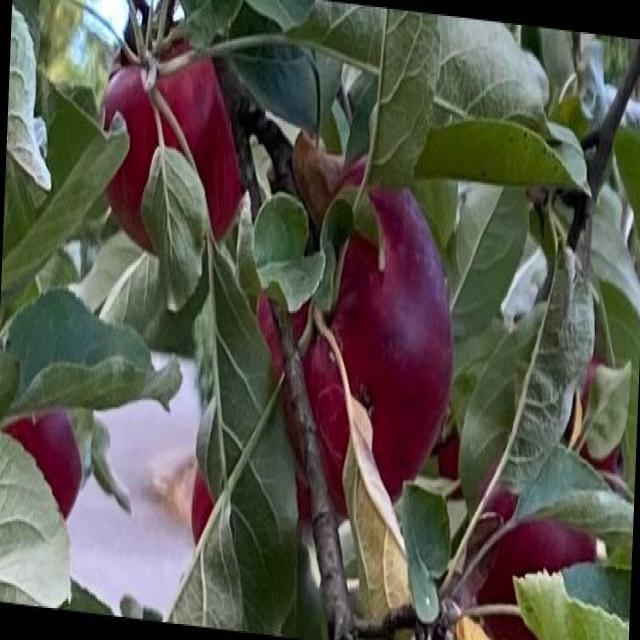Apple: (248, 146, 460, 528), (99, 29, 248, 266), (456, 470, 602, 640), (2, 405, 86, 524)
